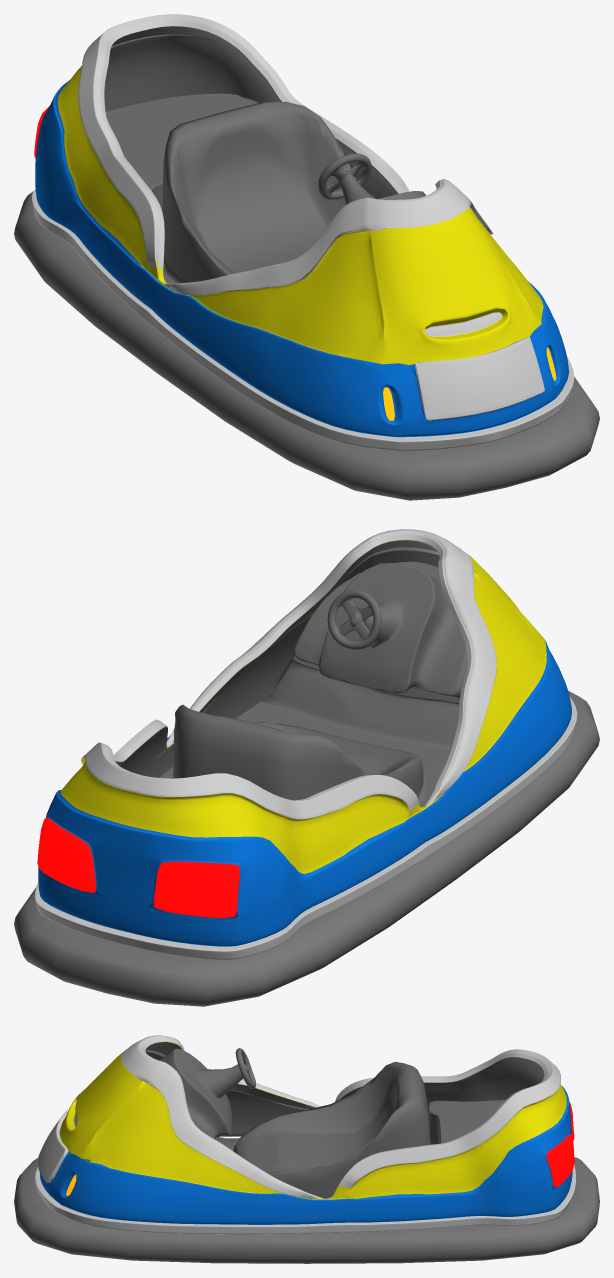
The model's file is cocheChoque.fbx.
3 views of the same model, one above another, from view 1: azimuth 30°, elevation 25°; view 2: azimuth 150°, elevation 25°; view 3: azimuth 270°, elevation 25° (orthographic). The views are drawn at different scales.
Visible parts, largest first — view 1: chasis1; view 2: chasis1; view 3: chasis1.
Part boxes in pixels (x1,y1,x2,y2): chasis1: [14, 14, 599, 500]; chasis1: [14, 529, 599, 1006]; chasis1: [14, 1035, 599, 1263].
Size of the model in its own units: 324 by 244 by 756.
